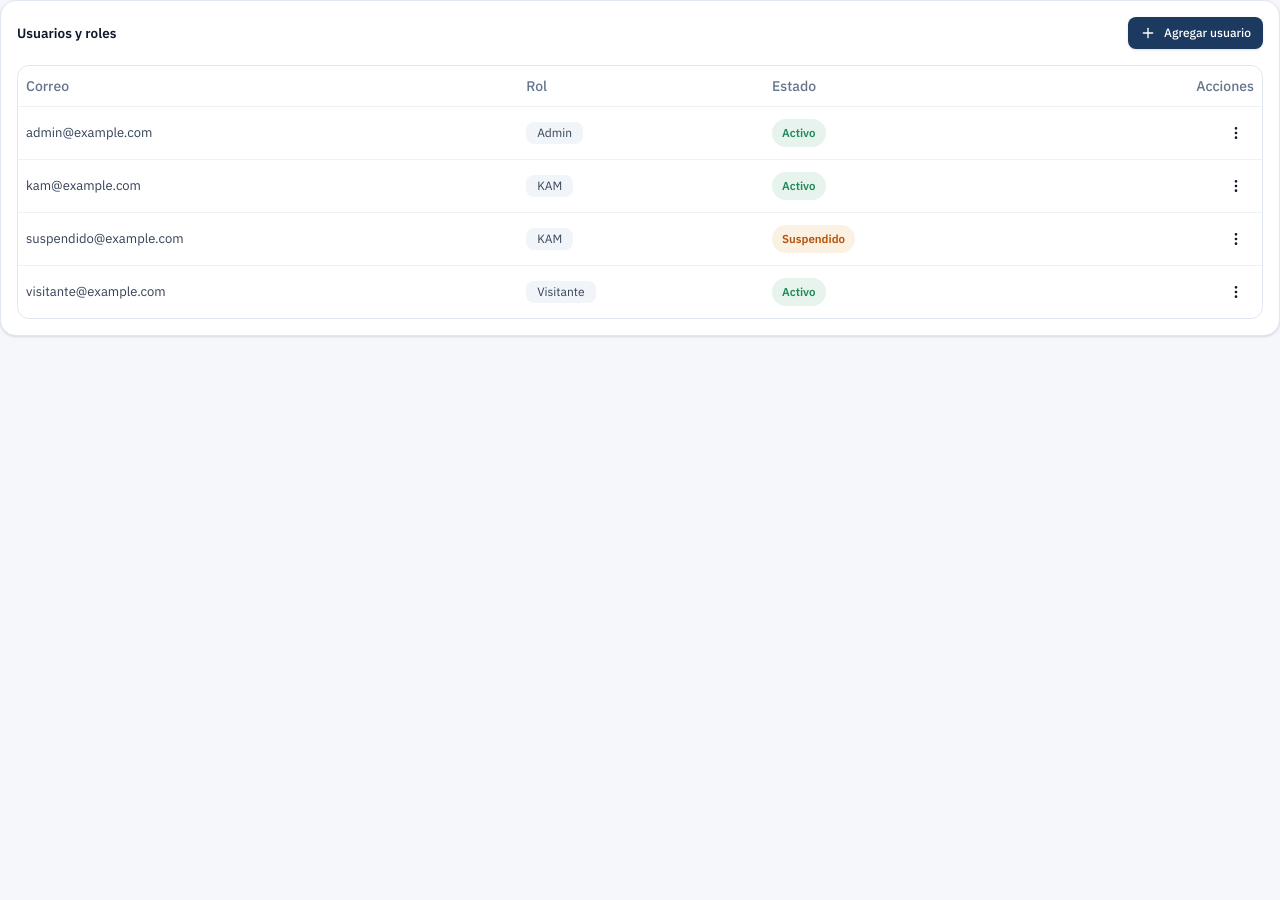
Test: ConfigUsuarios › restablecer contraseña: la descripción advierte además que el usuario suspendido seguirá sin poder entrar
Expected: the text "suspendido@example.com" is shown, x1=18 y1=212 x2=518 y2=265
Press the mouse on the button named "Acciones para suspendido@example.com" at (1236, 238), box x1=1218 y1=220 x2=1254 y2=256
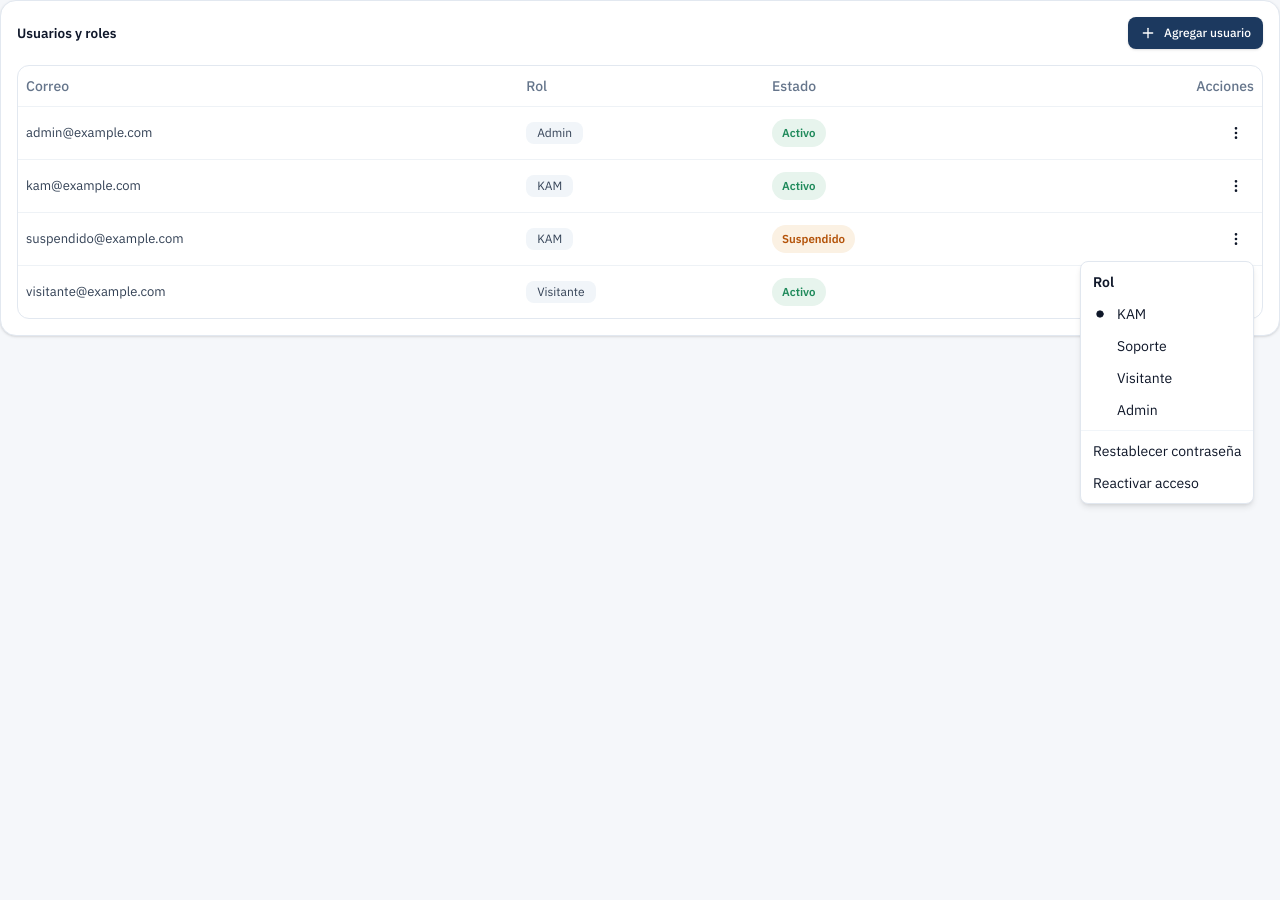
Click the menu item "Restablecer contraseña" at (1167, 451), box x1=1093 y1=442 x2=1241 y2=460
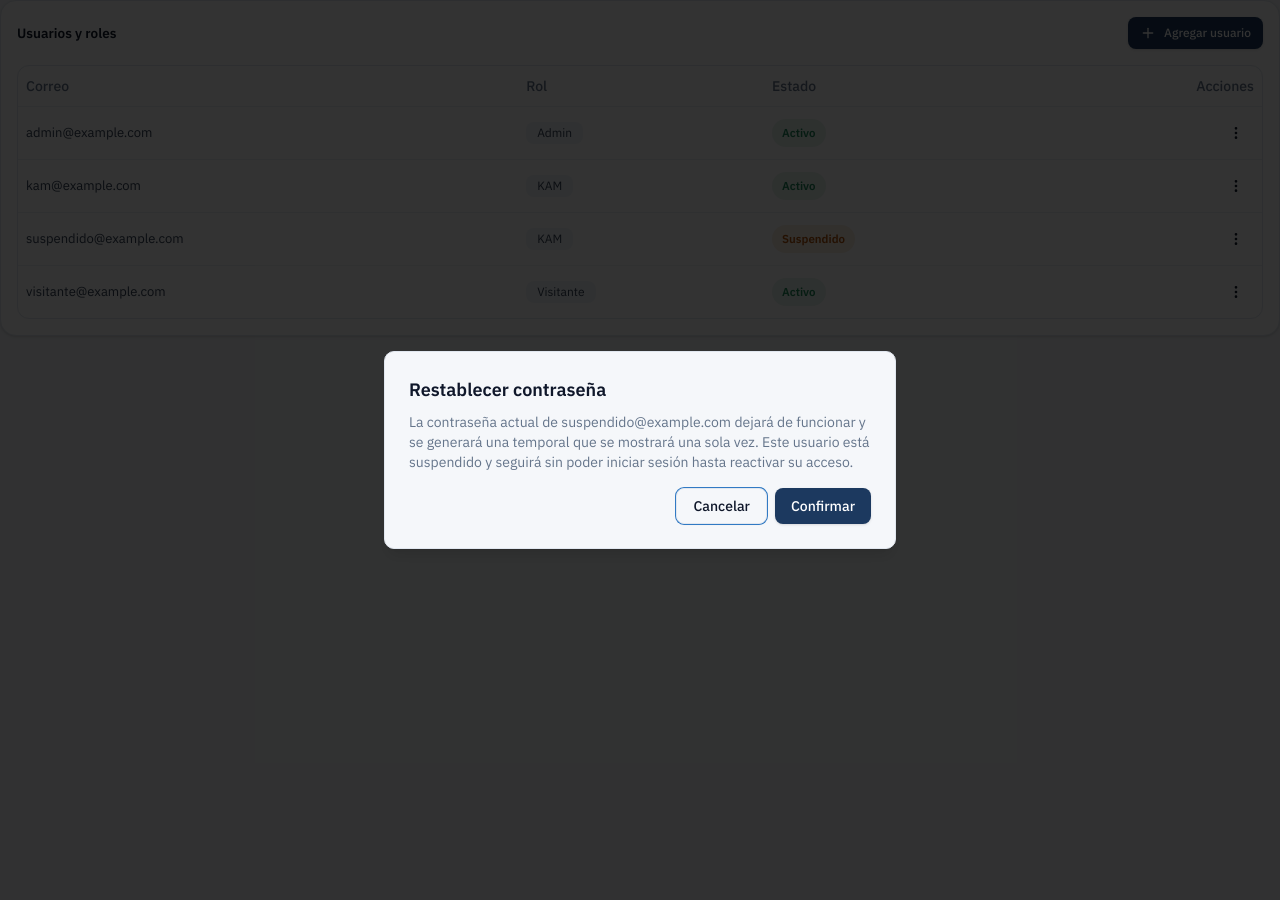
Expected: the text "seguirá sin poder iniciar sesión" is shown, x1=409 y1=433 x2=870 y2=471
